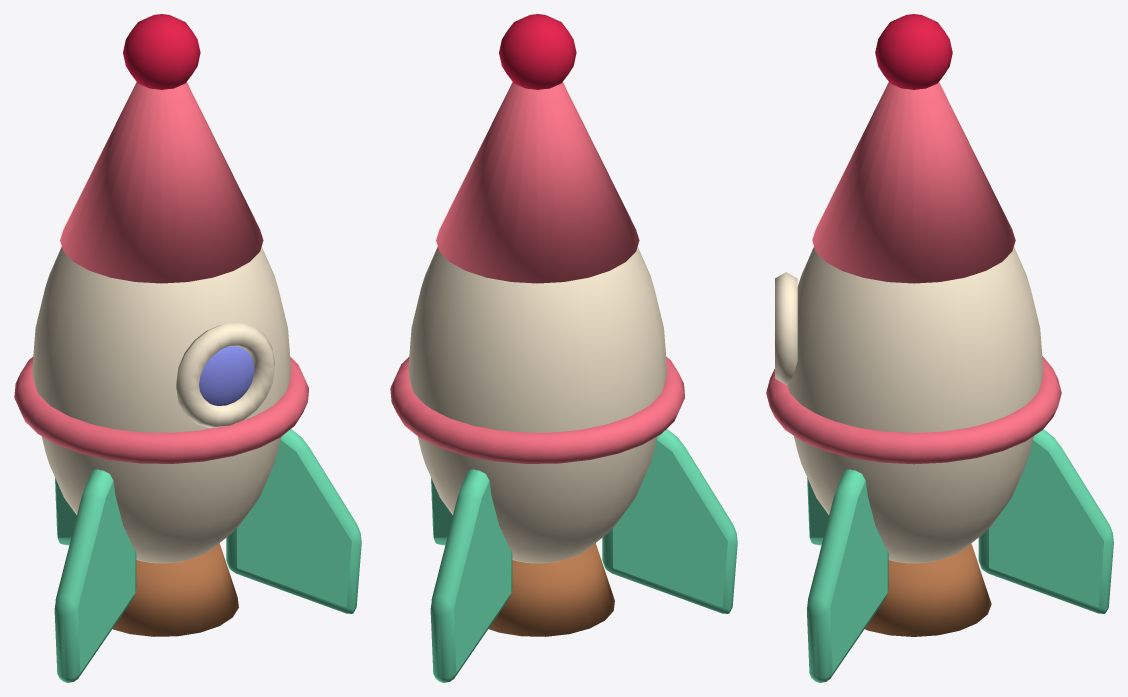
Rendered from music-rocket.glb.
The picture shows the model from 3 angles, left to right: view 1: azimuth 30°, elevation 25°; view 2: azimuth 150°, elevation 25°; view 3: azimuth 270°, elevation 25°; orthographic projection.
Visible parts, largest first — view 1: music-rocket; view 2: music-rocket; view 3: music-rocket.
Part boxes in pixels (x1,y1,x2,y2): music-rocket: (14, 14, 361, 682); music-rocket: (390, 14, 737, 682); music-rocket: (766, 14, 1113, 682).
Bounding box in the file's own units: 0.5429 × 1.01 × 0.5373.
1 material, 1 textured.
